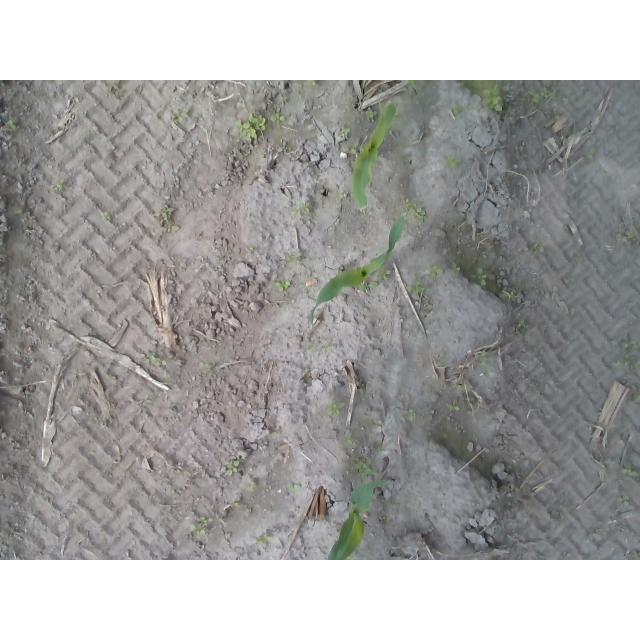Maize: (305, 208, 414, 329), (347, 95, 398, 210), (326, 478, 386, 560)
Weeds: (457, 80, 503, 114), (234, 111, 267, 142), (159, 206, 182, 235), (525, 89, 556, 104), (406, 204, 427, 222), (191, 516, 208, 538), (613, 358, 640, 371), (470, 268, 487, 288), (351, 461, 373, 476), (327, 399, 344, 418), (407, 280, 425, 296), (342, 139, 359, 155), (404, 80, 432, 89), (425, 264, 444, 277), (293, 202, 312, 215), (225, 460, 239, 477), (528, 240, 545, 254), (172, 107, 188, 121), (339, 432, 353, 447), (336, 126, 352, 139), (145, 353, 161, 366), (623, 340, 640, 352), (443, 156, 460, 168), (617, 493, 631, 507), (446, 399, 461, 412), (286, 482, 302, 494), (514, 318, 526, 334), (286, 252, 303, 263), (365, 107, 378, 121), (270, 112, 286, 123), (623, 469, 640, 479), (456, 382, 472, 392), (256, 534, 273, 543), (380, 269, 392, 280), (278, 281, 291, 291), (453, 105, 464, 116), (100, 212, 112, 221), (6, 119, 16, 129), (409, 408, 416, 421), (16, 207, 25, 217), (307, 80, 318, 86)
